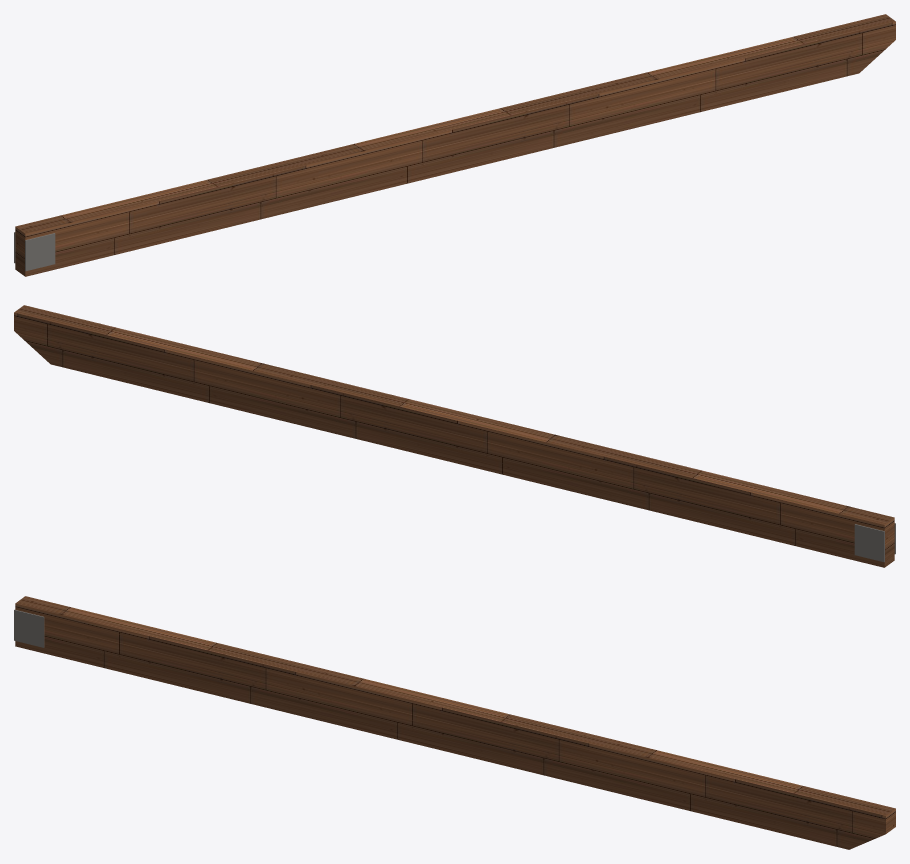
The model's file is cp_beam.glb.
3 renders of one model, top to bottom at view 1: azimuth 30°, elevation 25°; view 2: azimuth 150°, elevation 25°; view 3: azimuth 330°, elevation 25°, orthographic.
Parts seen in each view (by area): view 1: cp_beam_beam, cp_beam_metal; view 2: cp_beam_beam, cp_beam_metal; view 3: cp_beam_beam, cp_beam_metal.
Part boxes in pixels (x1,y1,x2,y2): cp_beam_beam: (15, 14, 895, 276); cp_beam_metal: (14, 232, 55, 271); cp_beam_beam: (14, 305, 894, 567); cp_beam_metal: (854, 523, 895, 562); cp_beam_beam: (15, 596, 895, 849); cp_beam_metal: (14, 609, 44, 647).
Size of the model in its own units: 5.94 by 0.28 by 0.136.
Materials: 2 (1 with a texture image).
